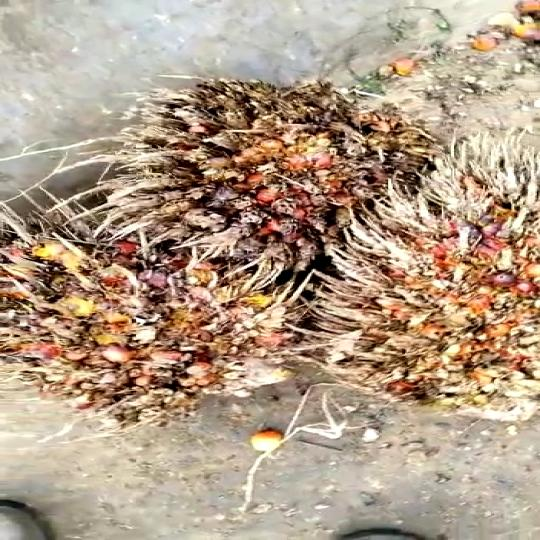terlalu masak: (63, 80, 468, 274), (0, 233, 312, 407)
